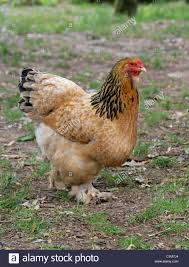chicken: (12, 50, 154, 213)
